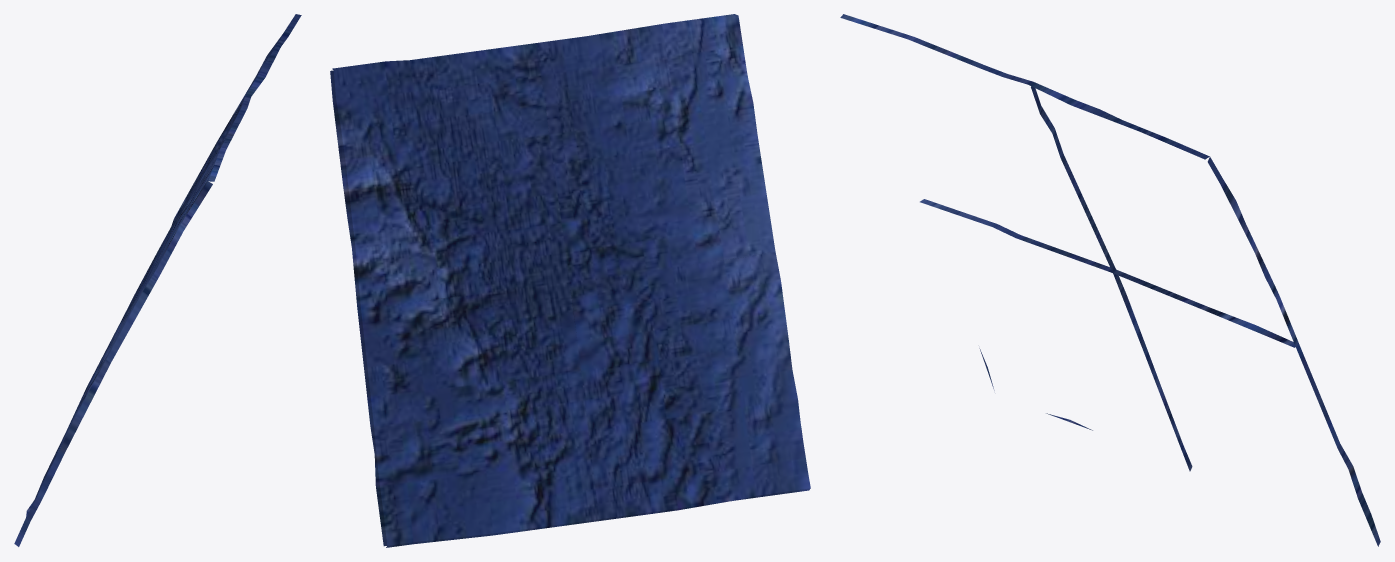
3 views of the same model, side by side, from view 1: azimuth 30°, elevation 25°; view 2: azimuth 150°, elevation 25°; view 3: azimuth 270°, elevation 25° (orthographic). The views are drawn at different scales.
Size of the model in its own units: 587670 by 573665 by 604498.
Materials: 1 (1 with a texture image).
